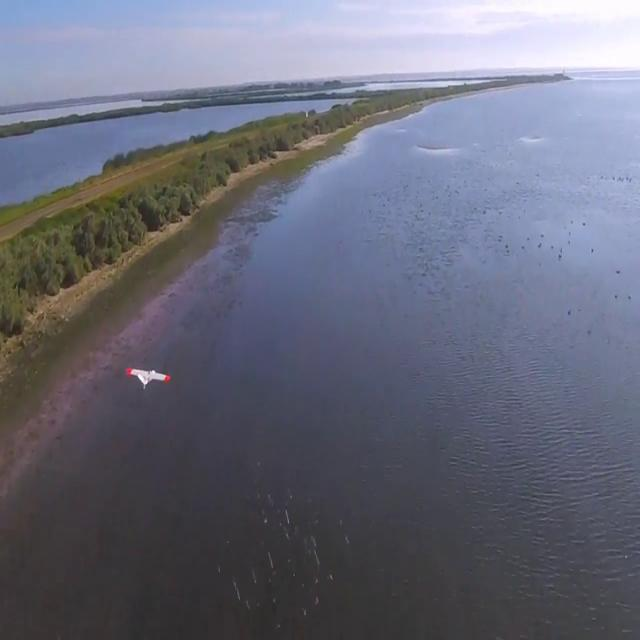iha: (122, 362, 173, 391)
